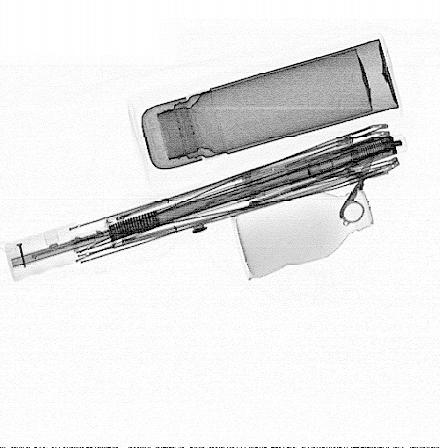Scissors: (307, 152, 389, 228)
